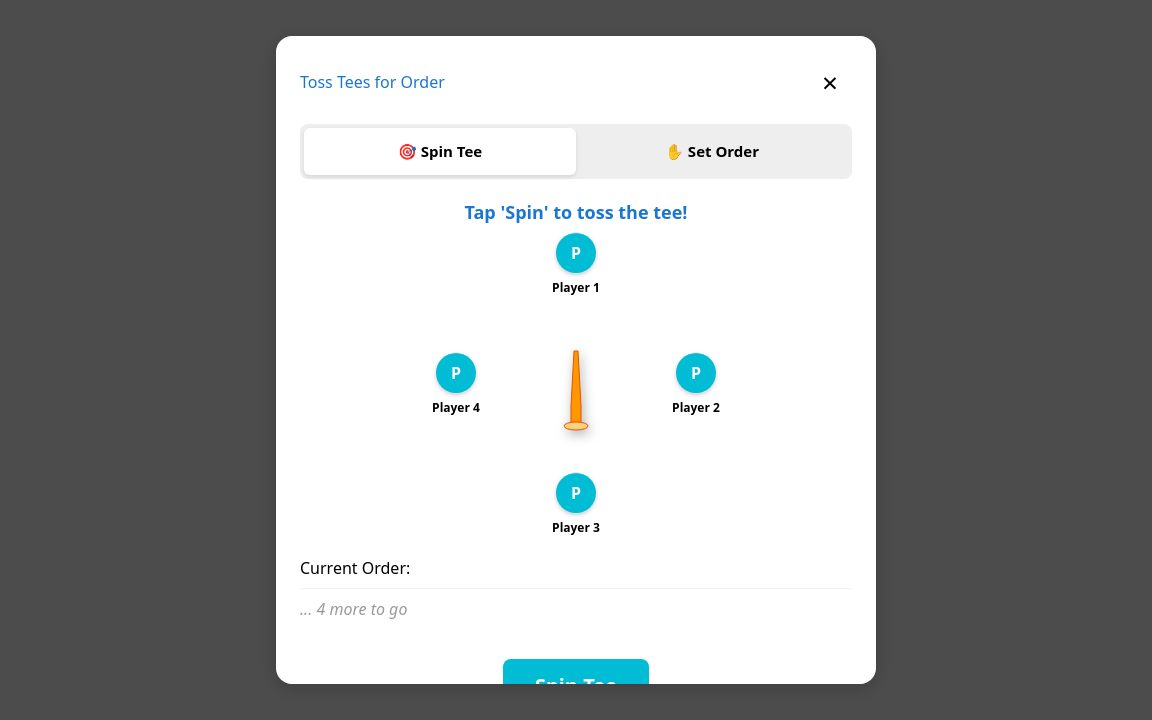
Scenario: TeeTossModal › switches to manual mode
This screenshot has width=1152, height=720.
Click the button "✋ Set Order": [712, 151] box [576,128,848,174]
(page scrolled)
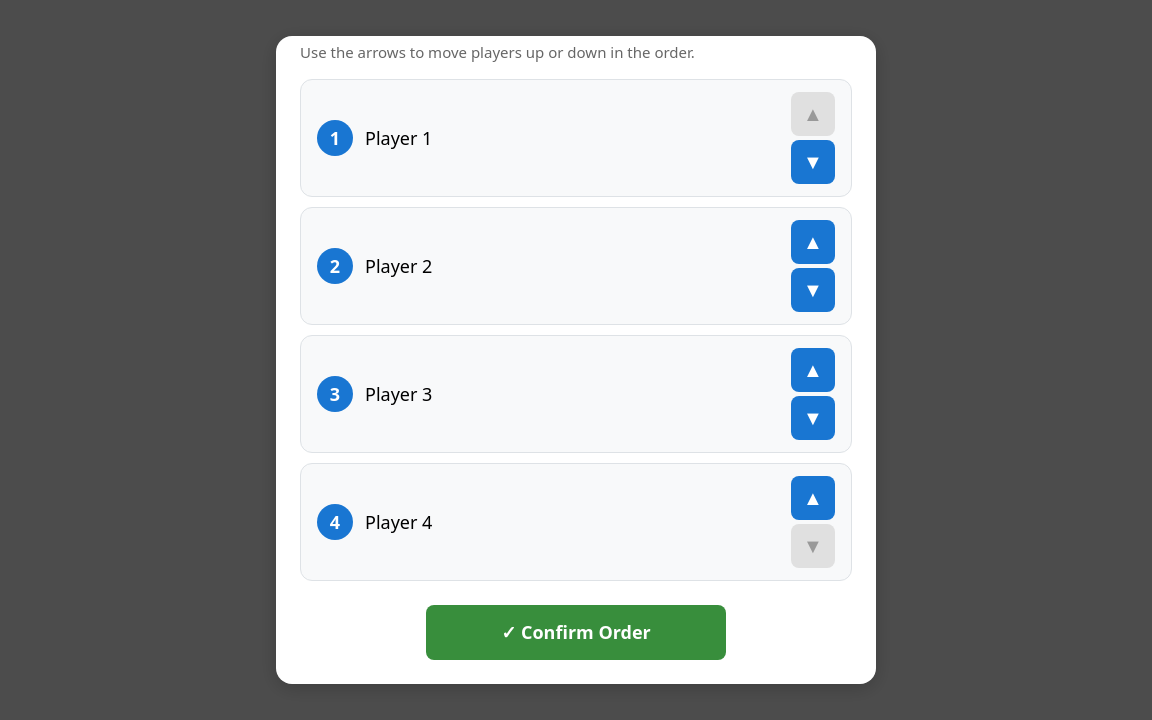
Check: the text "Use the arrows to move players up or down in the order." is shown, box [300,42,695,62]
Check: the button "✓ Confirm Order" is shown, box [426,605,726,660]
